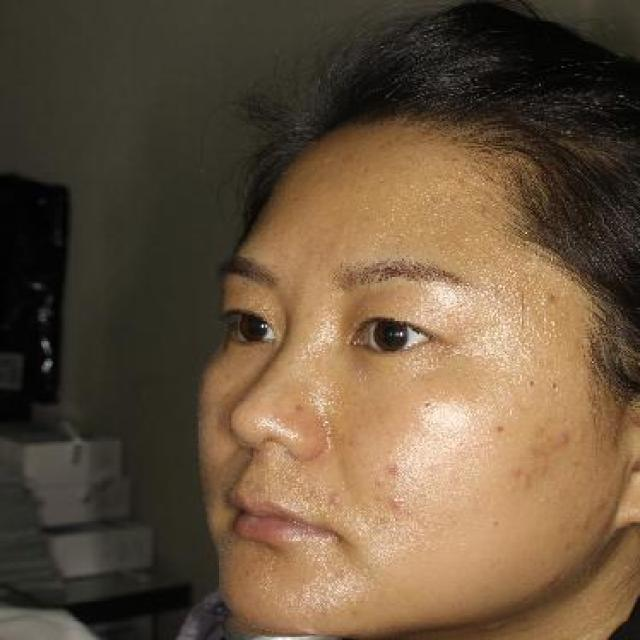Acne: (539, 289, 563, 305), (327, 491, 346, 511), (383, 460, 404, 478), (385, 496, 406, 512), (556, 431, 575, 446)
Blackheads: (419, 400, 436, 410)
